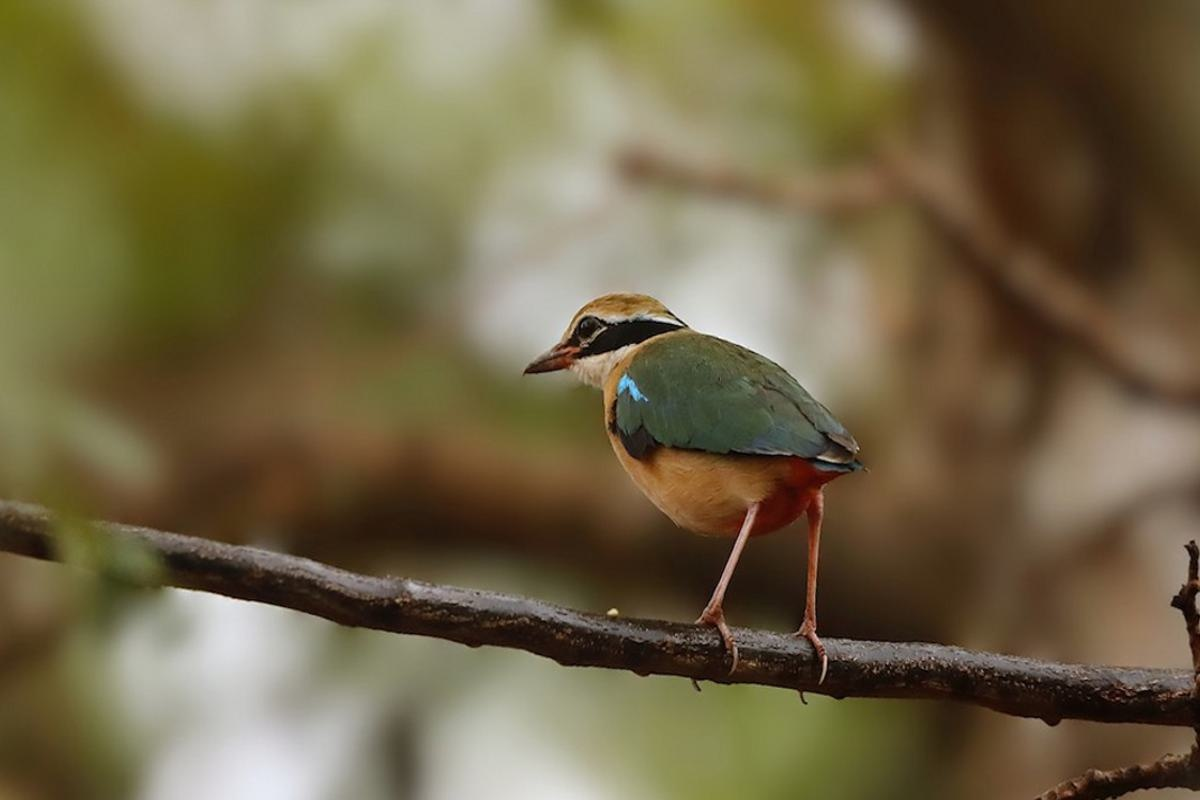pitta: (466, 181, 883, 683)
